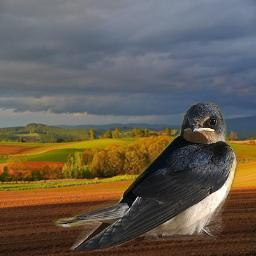Swallow: (52, 102, 238, 251)
